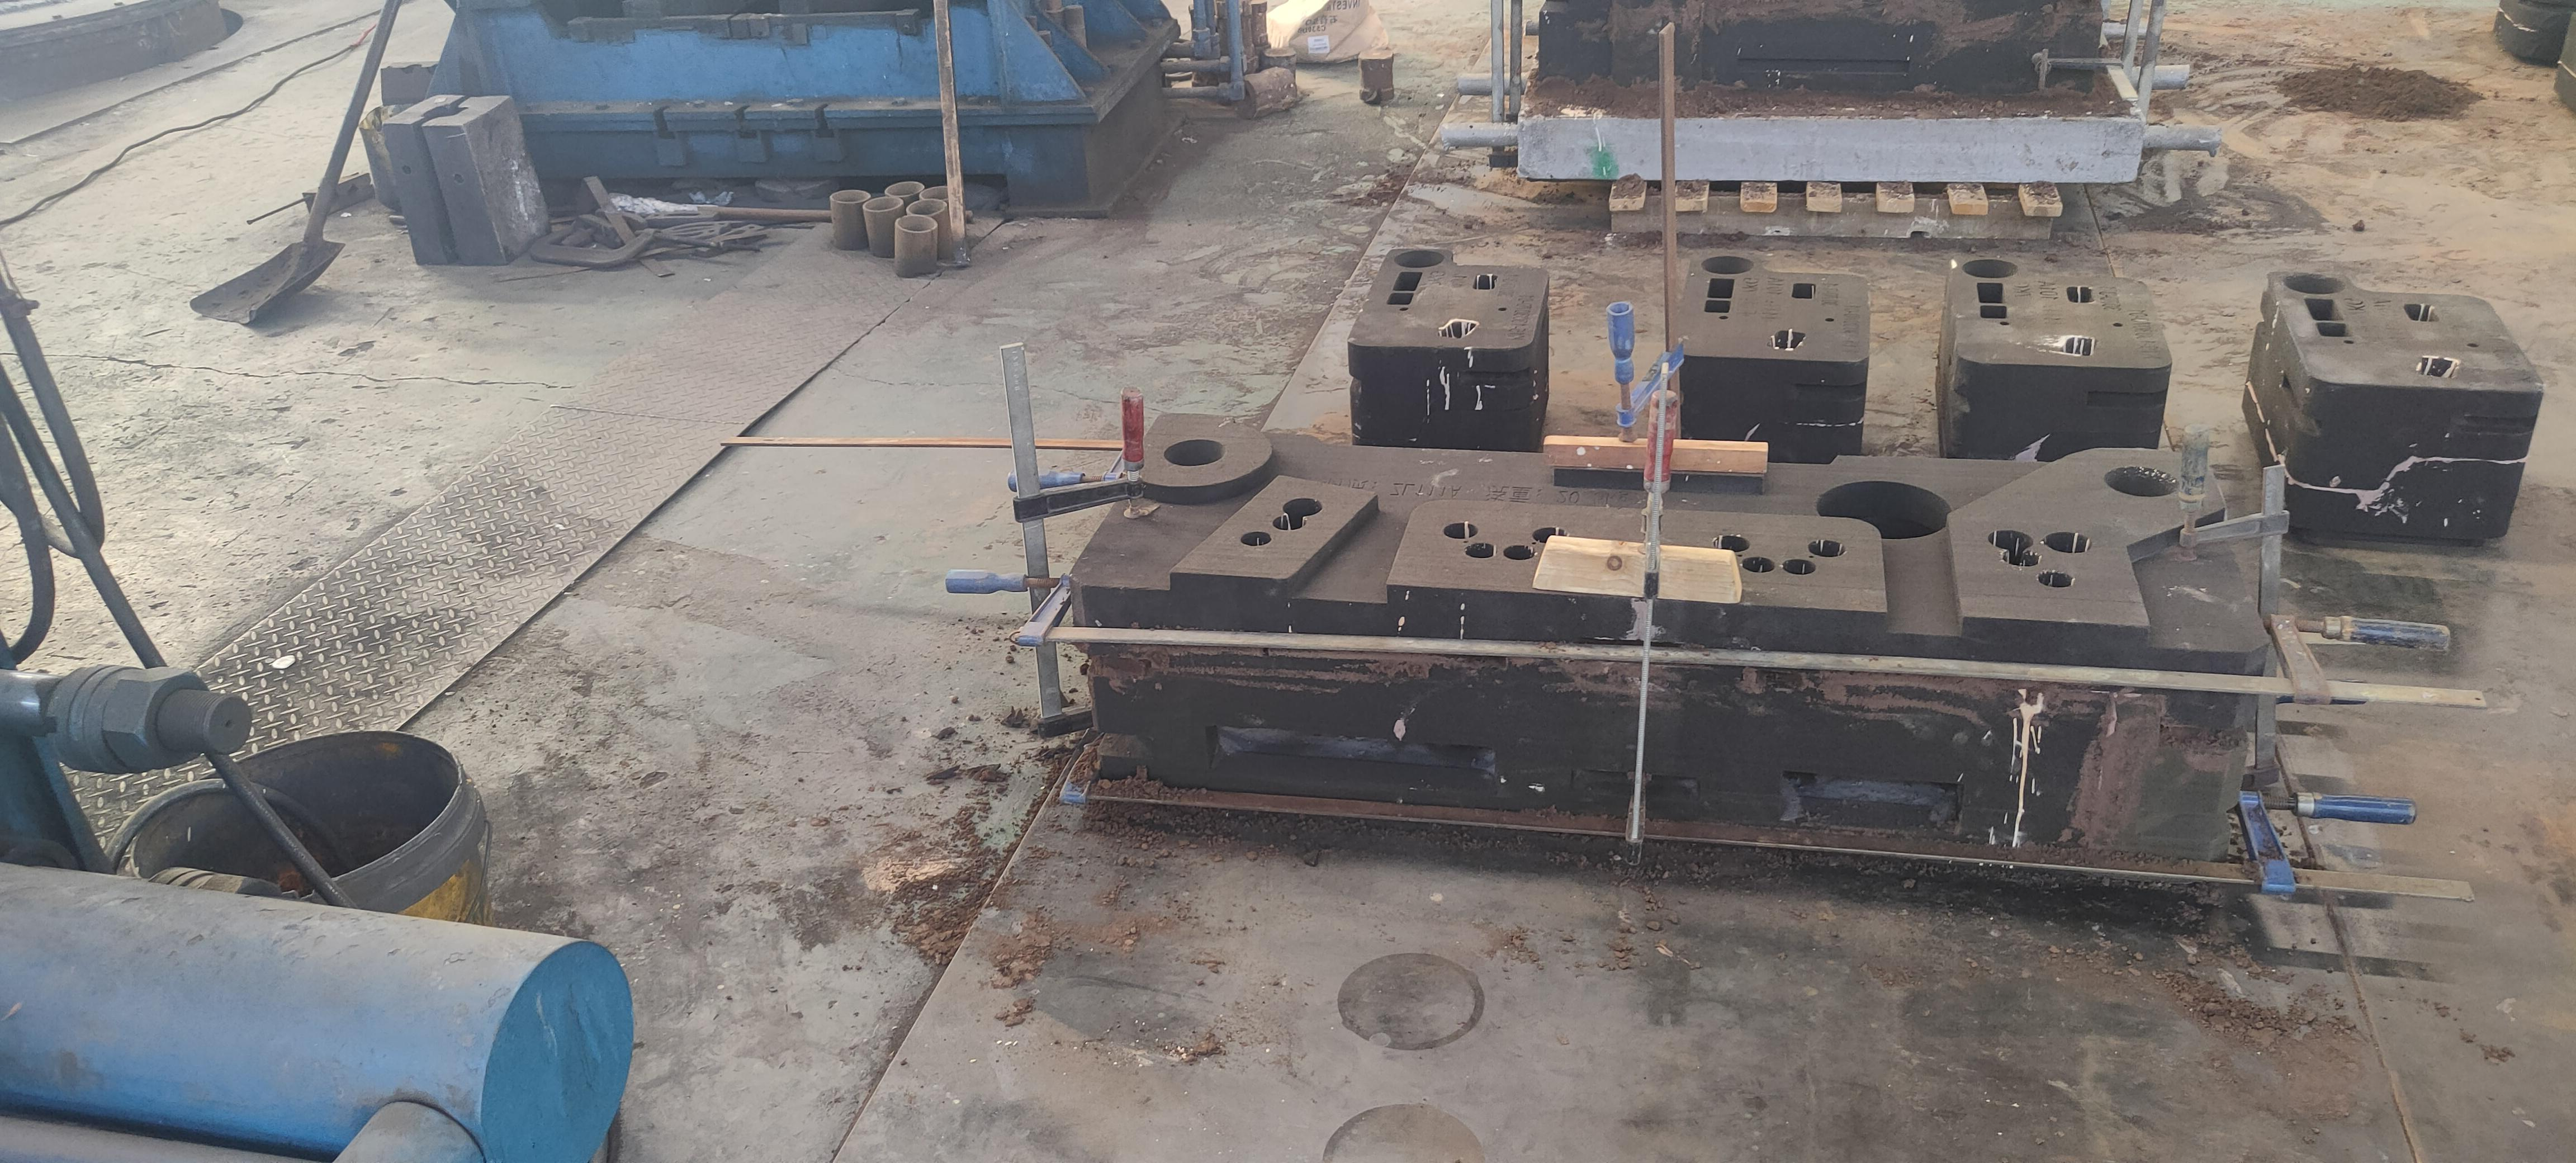pouring hole: (2103, 465, 2180, 498), (1163, 439, 1226, 467), (2282, 273, 2346, 296), (1962, 260, 2019, 279), (1393, 250, 1446, 268), (1702, 256, 1755, 274), (895, 215, 938, 235), (905, 199, 946, 217), (862, 195, 904, 212), (918, 186, 959, 202), (884, 181, 923, 197), (828, 189, 871, 204)
